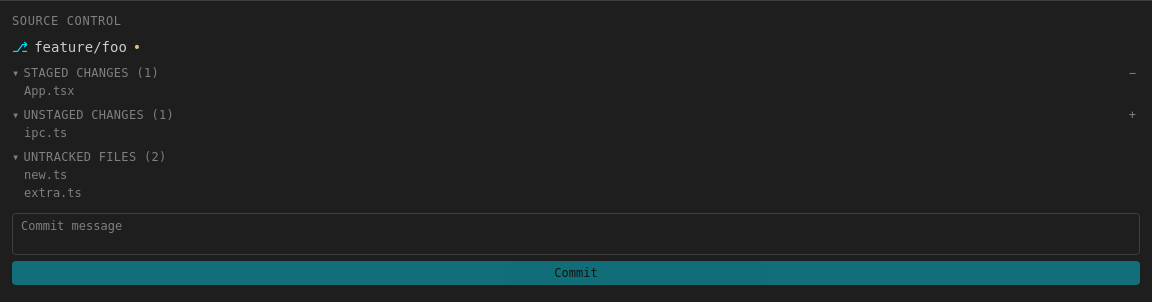
Test: SourceControl — collapse/expand › re-expands staged section on second header click
What coordinates should you click on to do the following:
click the button with test id "staged-section-header"
I would click on:
 (86, 73)
Its box is [12,65,159,81].
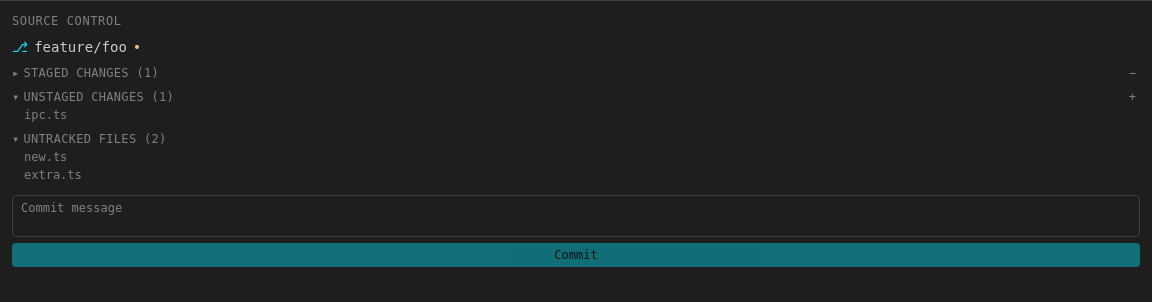
What coordinates should you click on to do the following:
click the button with test id "staged-section-header"
I would click on:
 (86, 73)
Its box is [12,65,159,81].
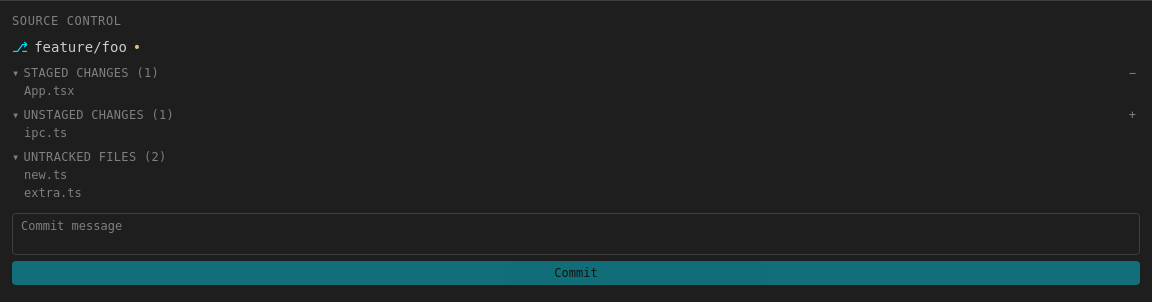
Result: the button with test id "staged-file-src/App.tsx" is shown at [24,83,1140,99]
